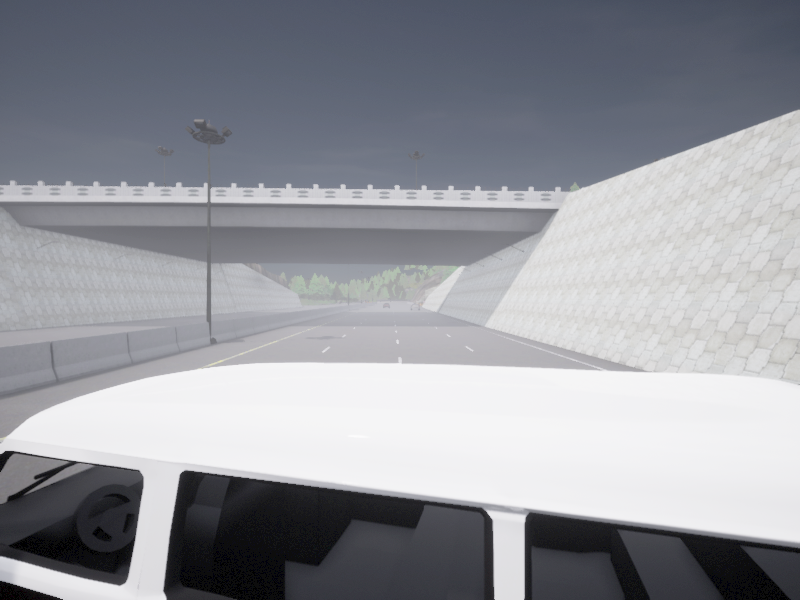vehicle: (0, 363, 799, 599), (410, 303, 419, 309), (383, 303, 389, 308)
